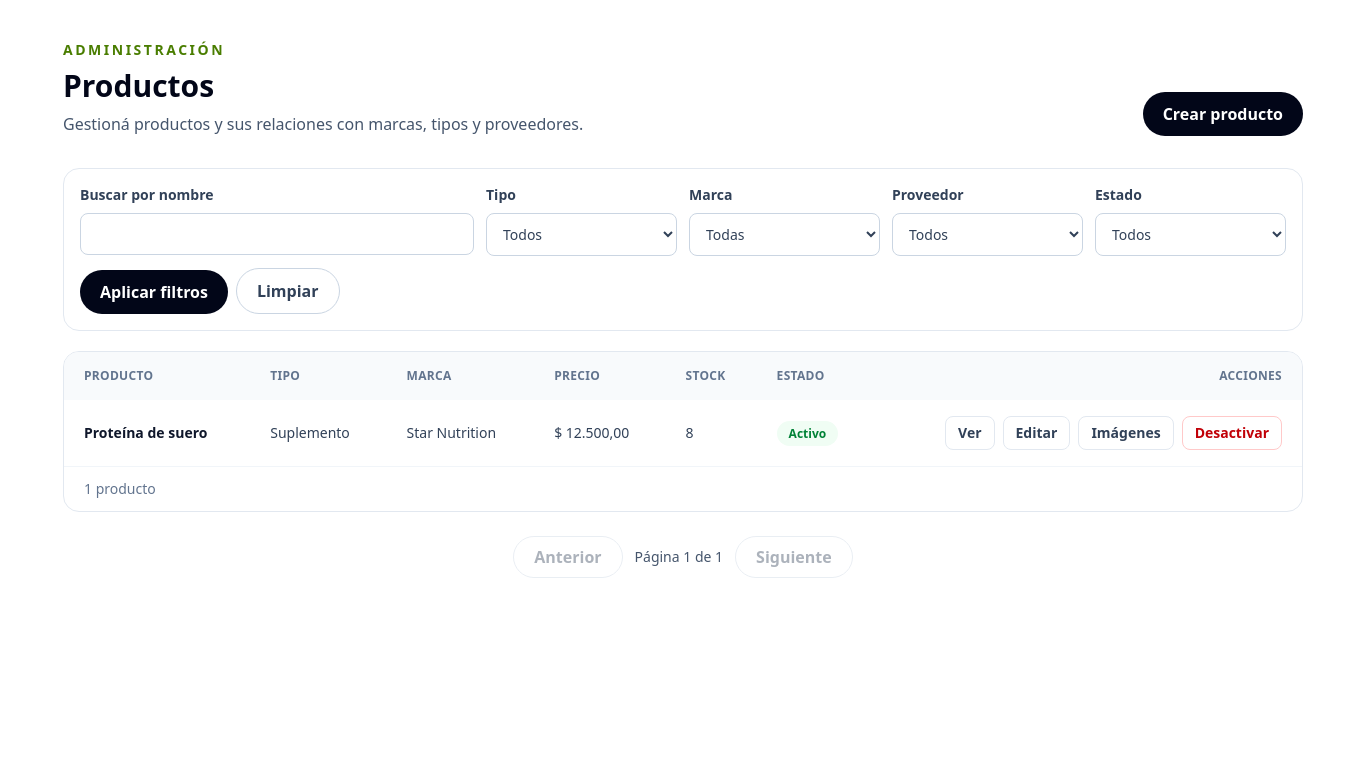
Test case: administración de productos › muestra únicamente relaciones activas y permite limpiar proveedor opcional
Expected: the text "Proteína de suero" is shown, [64,400,250,466]
Click the button "Editar" at (1036, 433), box [1002,416,1070,450]
(page scrolled)
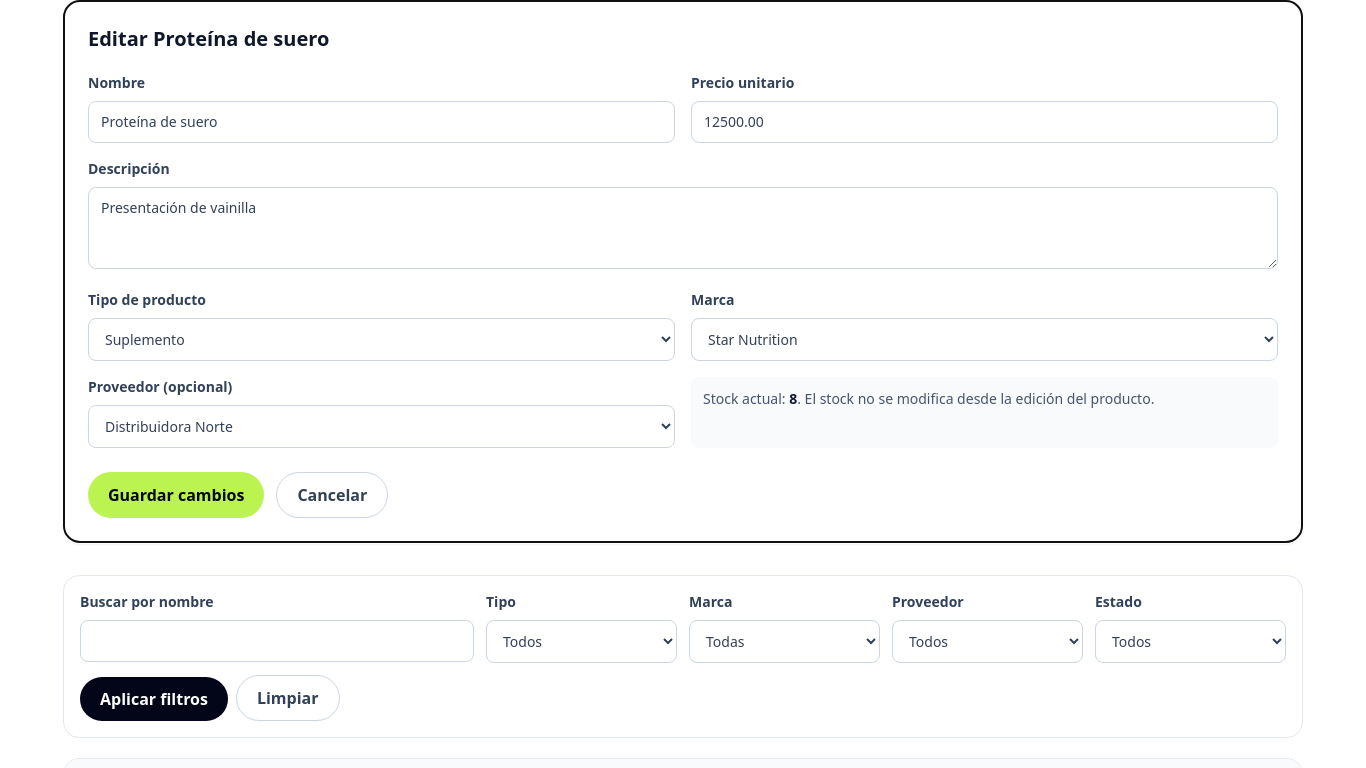
Select "Sin proveedor" in the dropdown labelled "Proveedor (opcional)" at (382, 426), box [88,405,675,448]
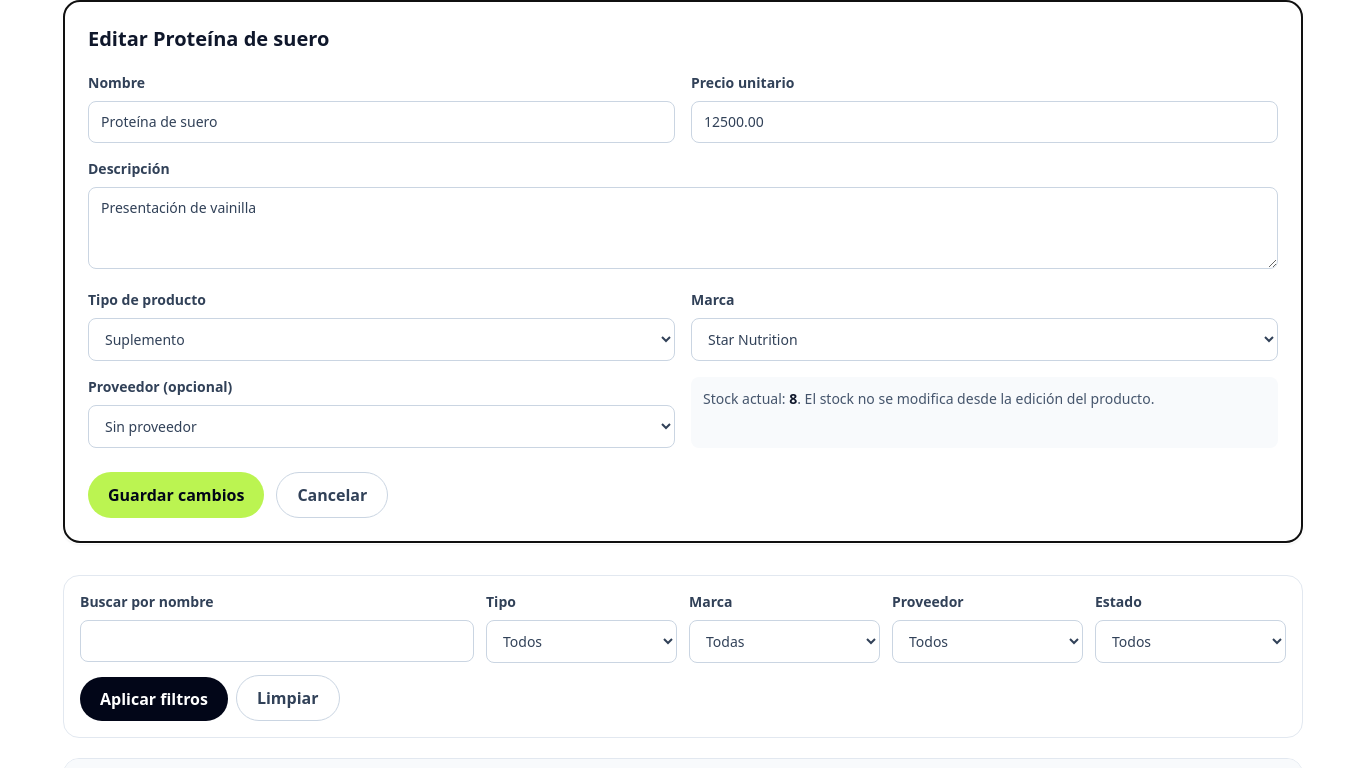
Click the button "Guardar cambios" at (176, 495), box [88,472,264,518]
(page scrolled)
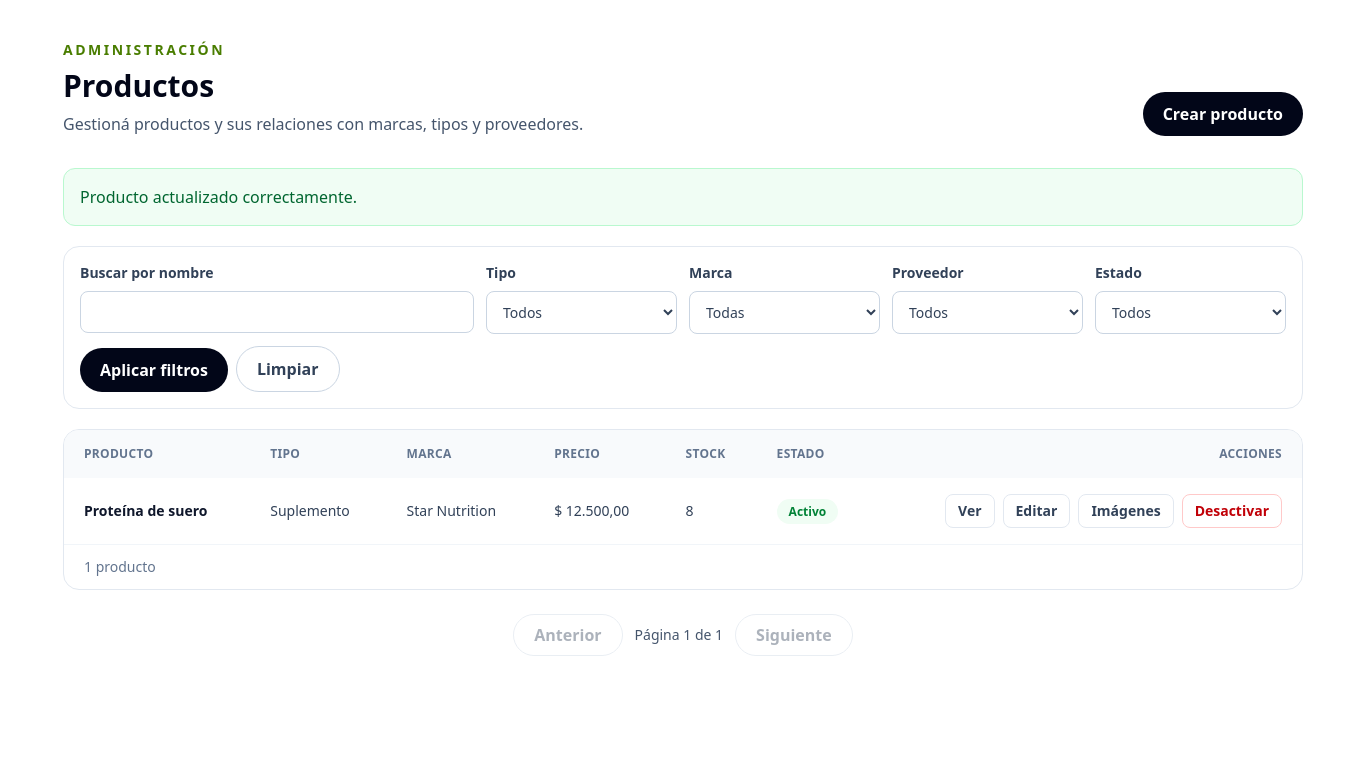
Expected: the text "Producto actualizado correctamente." is shown, [63,168,1303,226]
